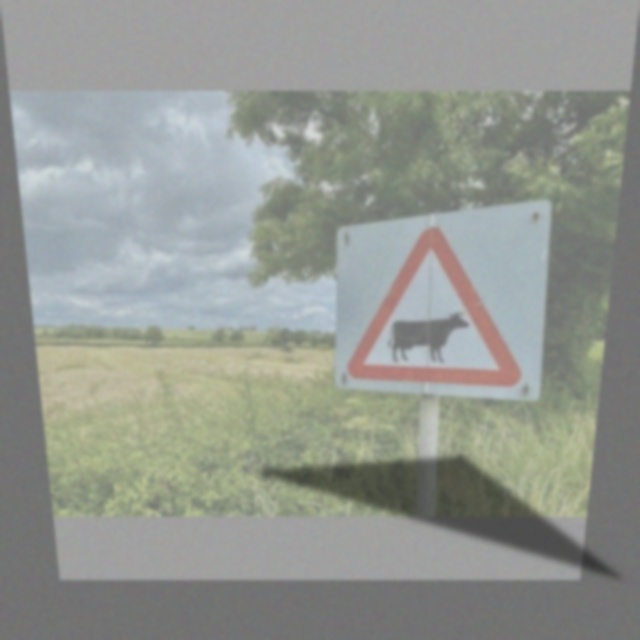Cattle: (341, 225, 537, 396)
